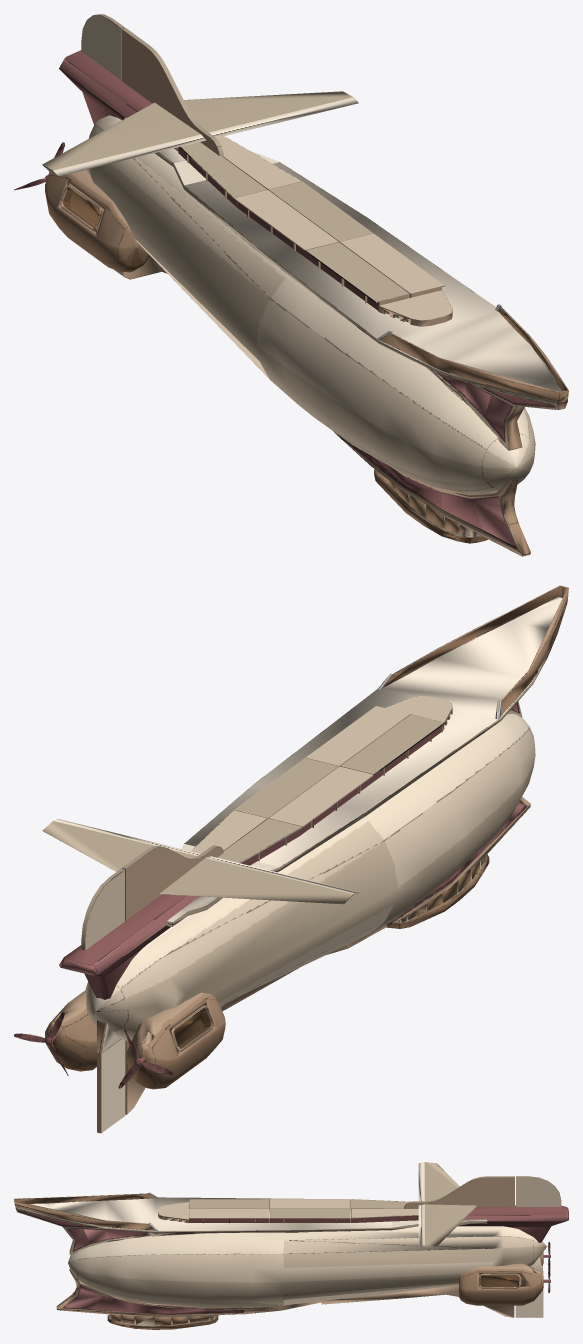
The model's file is titan_parts_joined_uvmapped.glb.
The picture shows the model from 3 angles, top to bottom: view 1: azimuth 30°, elevation 25°; view 2: azimuth 150°, elevation 25°; view 3: azimuth 270°, elevation 25°; orthographic projection. The views are drawn at different scales.
Parts seen in each view (by area): view 1: polySurface406_phong_Orange3_0; view 2: polySurface406_phong_Orange3_0; view 3: polySurface406_phong_Orange3_0.
Boxes of the visible parts, x1,y1,x2,y2 form: polySurface406_phong_Orange3_0: [14, 14, 568, 556]; polySurface406_phong_Orange3_0: [14, 585, 568, 1133]; polySurface406_phong_Orange3_0: [14, 1162, 568, 1329].
Bounding box in the file's own units: 4.23 × 3.5 × 11.89.
Materials: 1 (1 with a texture image).
